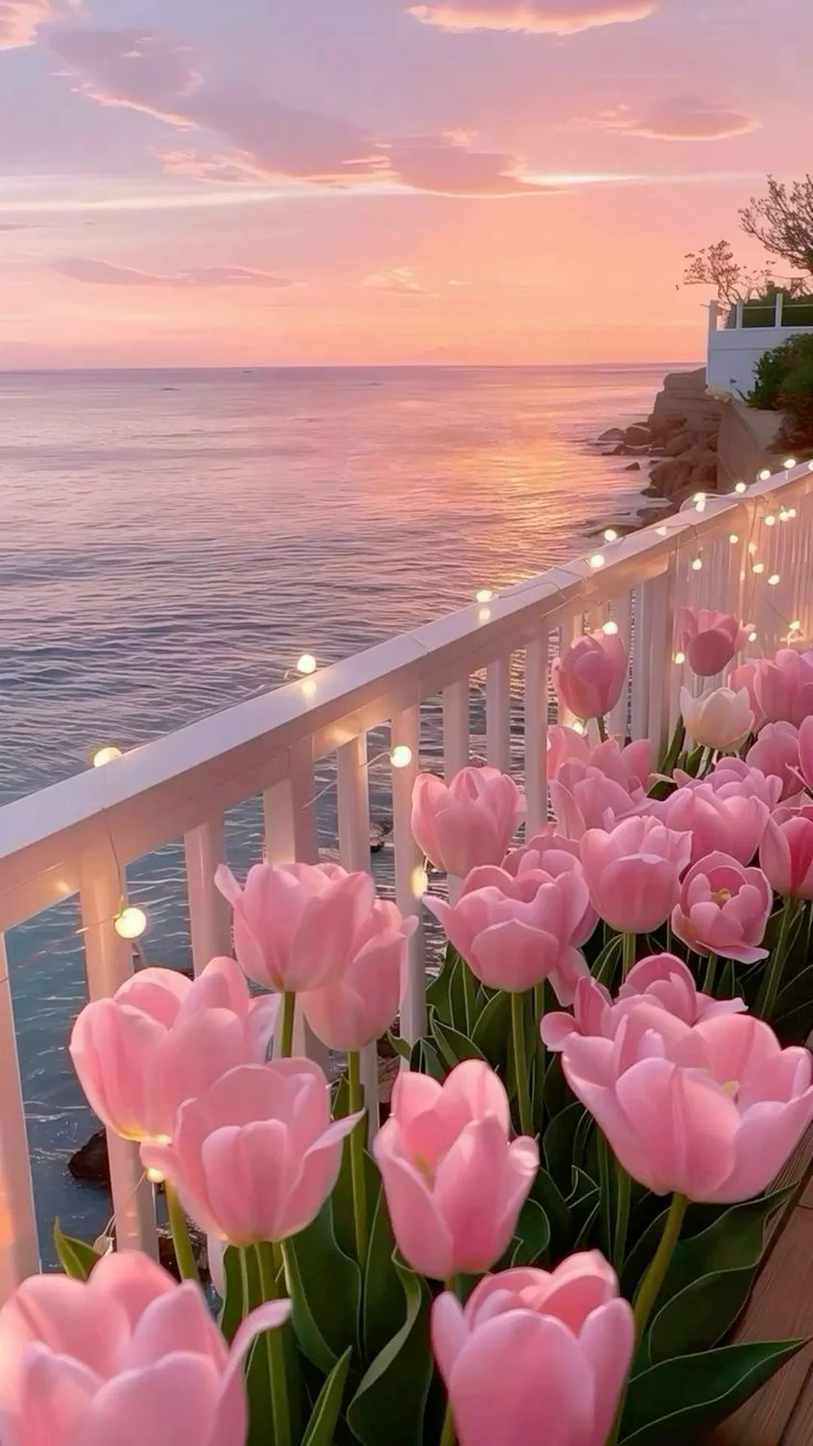tulip: (2, 1246, 299, 1442), (565, 989, 810, 1207), (411, 1243, 644, 1446), (145, 1057, 359, 1257), (65, 952, 274, 1153), (374, 1052, 546, 1290), (206, 851, 377, 996), (292, 890, 415, 1054), (422, 866, 564, 993), (638, 755, 784, 866), (577, 811, 693, 936), (408, 761, 523, 880), (671, 848, 775, 968), (546, 737, 651, 835), (521, 830, 600, 944), (551, 629, 631, 722), (671, 606, 761, 679), (674, 678, 757, 752), (758, 802, 813, 903), (747, 647, 813, 729), (746, 718, 812, 798)
